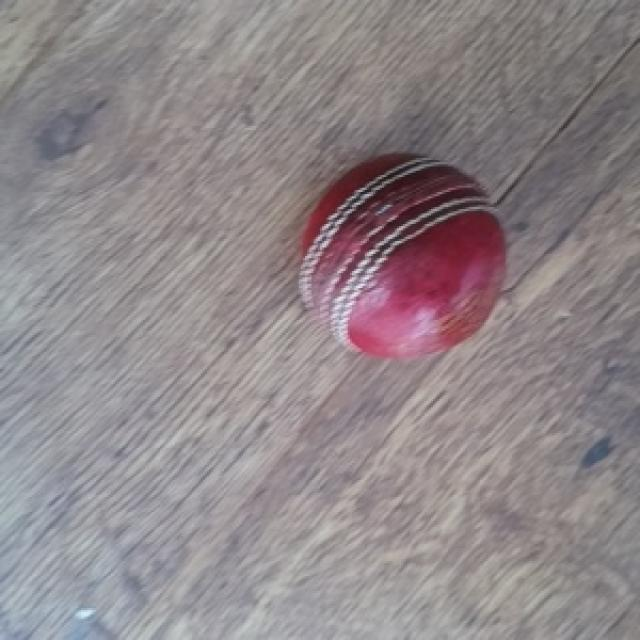ball: (292, 151, 510, 363)
